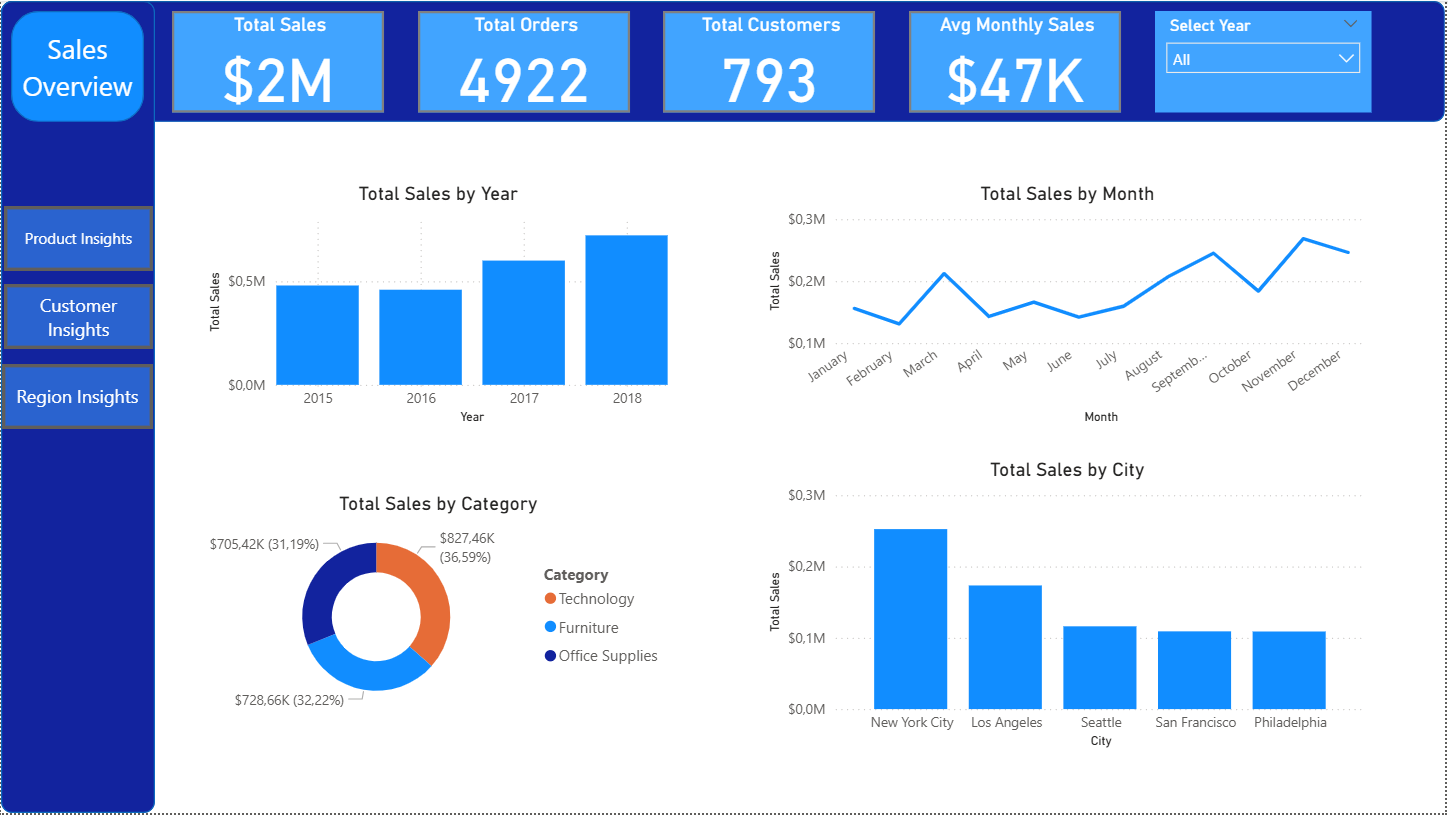

Layout of this report page (visuals, bound fields, positions):
{"tool":"powerbi","page":{"name":"Sales Overview","canvas":[1280,720],"ordinal":0},"visuals":[{"type":"shape","box":[0,0,1280.4,107.3],"z":1000},{"type":"shape","box":[0,0,136.6,720],"z":2000},{"type":"clusteredColumnChart","fields":{"Category":["train.Year"],"Y":["train.Total Sales"]},"box":[179,160.5,417.3,218.8],"z":3000},{"type":"lineChart","fields":{"Category":["train.MonthStart.Variation.Date Hierarchy.Month"],"Y":["train.Total Sales"]},"box":[676,160.5,539.8,218.8],"z":4000},{"type":"donutChart","fields":{"Category":["train.Category"],"Y":["train.Total Sales"]},"box":[179,435.7,417.3,202.3],"z":5000},{"type":"card","title":"Total Sales","fields":{"Values":["train.Total Sales"]},"box":[151.6,8.9,188,90.4],"z":6000},{"type":"columnChart","fields":{"Category":["train.City"],"Y":["train.Total Sales"]},"box":[676,405.6,539.8,261.6],"z":7000},{"type":"slicer","fields":{"Values":["train.Year"]},"box":[1023.3,8.9,192.4,90.4],"z":8000},{"type":"actionButton","title":"Product Insights","box":[2.7,181.8,132.1,57.6],"z":9000},{"type":"actionButton","title":"Product Insights","box":[2.7,250.9,132.1,57.6],"z":10000},{"type":"actionButton","title":"Product Insights","box":[0.9,321.9,133.9,57.6],"z":11000},{"type":"card","title":"Total Orders","fields":{"Values":["train.Total Orders"]},"box":[369.5,8.9,188,90.4],"z":12000},{"type":"card","title":"Total Customers","fields":{"Values":["train.Total Customers"]},"box":[587.4,8.9,188,90.4],"z":13000},{"type":"card","title":"Avg Monthly Sales","fields":{"Values":["train.Avg Monthly Sales"]},"box":[805.3,8.9,188,90.4],"z":14000},{"type":"shape","box":[8.9,8.9,117.9,98.4],"z":15000}]}

Visuals, with their boxes in screenshot pixels (x1, y1, x2, y2), scaled from the page's 1280x720 canvas onto the 1448x816 screenshot:
shape: left=0, top=0, right=1447, bottom=122
shape: left=0, top=0, right=155, bottom=815
clusteredColumnChart - train.Year x train.Total Sales: left=202, top=182, right=675, bottom=430
lineChart - train.MonthStart.Variation.Date Hierarchy.Month x train.Total Sales: left=765, top=182, right=1375, bottom=430
donutChart - train.Category x train.Total Sales: left=202, top=494, right=675, bottom=723
"Total Sales" card: left=171, top=10, right=384, bottom=113
columnChart - train.City x train.Total Sales: left=765, top=460, right=1375, bottom=756
slicer - train.Year: left=1158, top=10, right=1375, bottom=113
"Product Insights" actionButton: left=3, top=206, right=152, bottom=271
"Product Insights" actionButton: left=3, top=284, right=152, bottom=350
"Product Insights" actionButton: left=1, top=365, right=152, bottom=430
"Total Orders" card: left=418, top=10, right=631, bottom=113
"Total Customers" card: left=664, top=10, right=877, bottom=113
"Avg Monthly Sales" card: left=911, top=10, right=1124, bottom=113
shape: left=10, top=10, right=143, bottom=122
